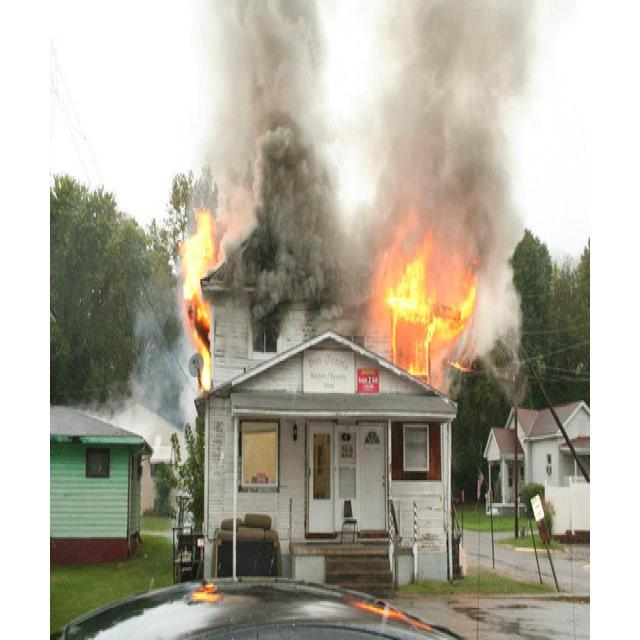Fire: (384, 238, 475, 422), (177, 211, 232, 378)
Smoke: (186, 0, 542, 307)
